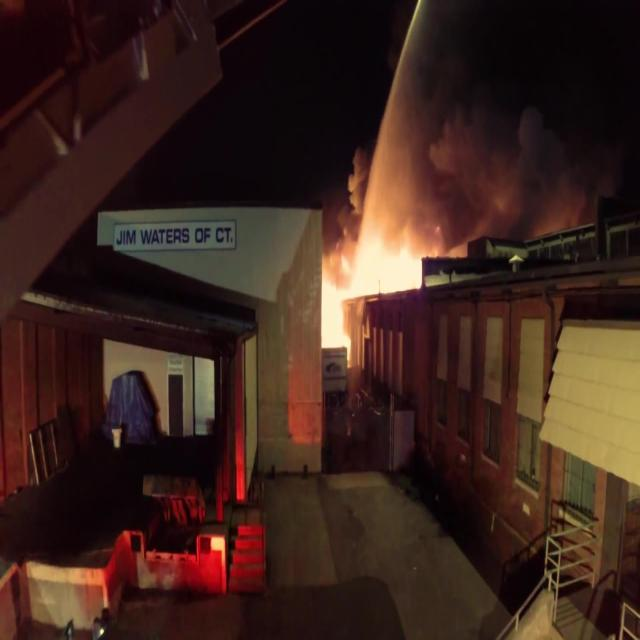Fire: (318, 234, 464, 369)
Smoke: (322, 84, 640, 283)
